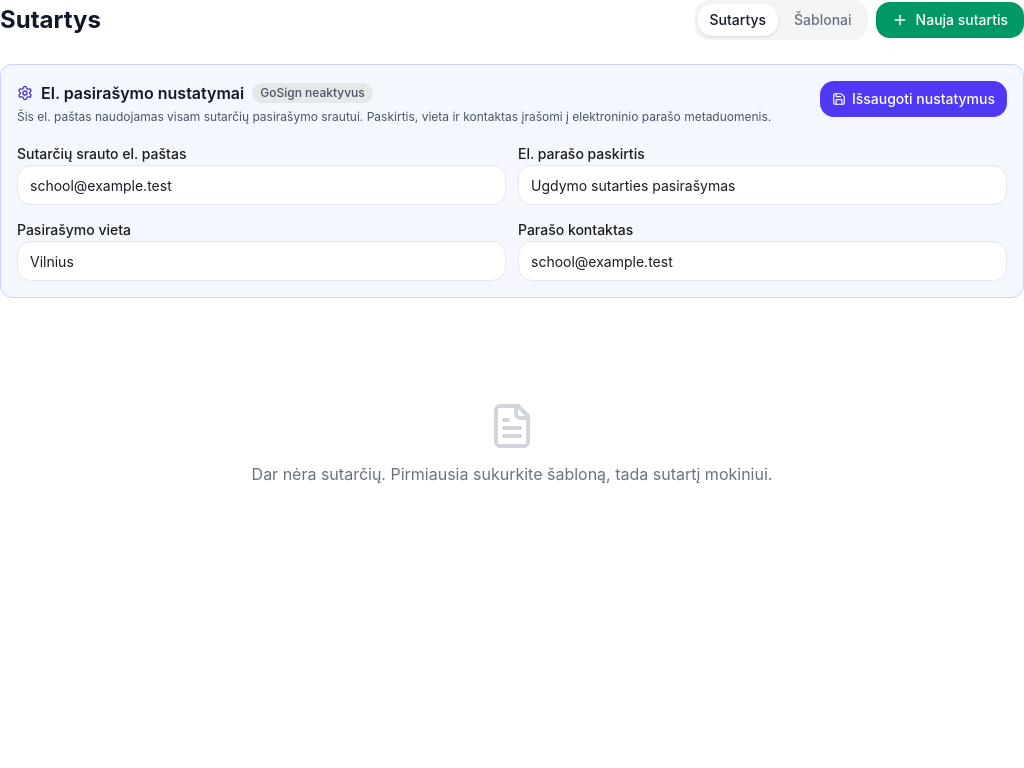
Test: CompanyContracts 20% discount checkbox › recomputes the discounted amount when the fee changes
Click the button "Nauja sutartis": point(950, 20) 876,2 -> 1023,38
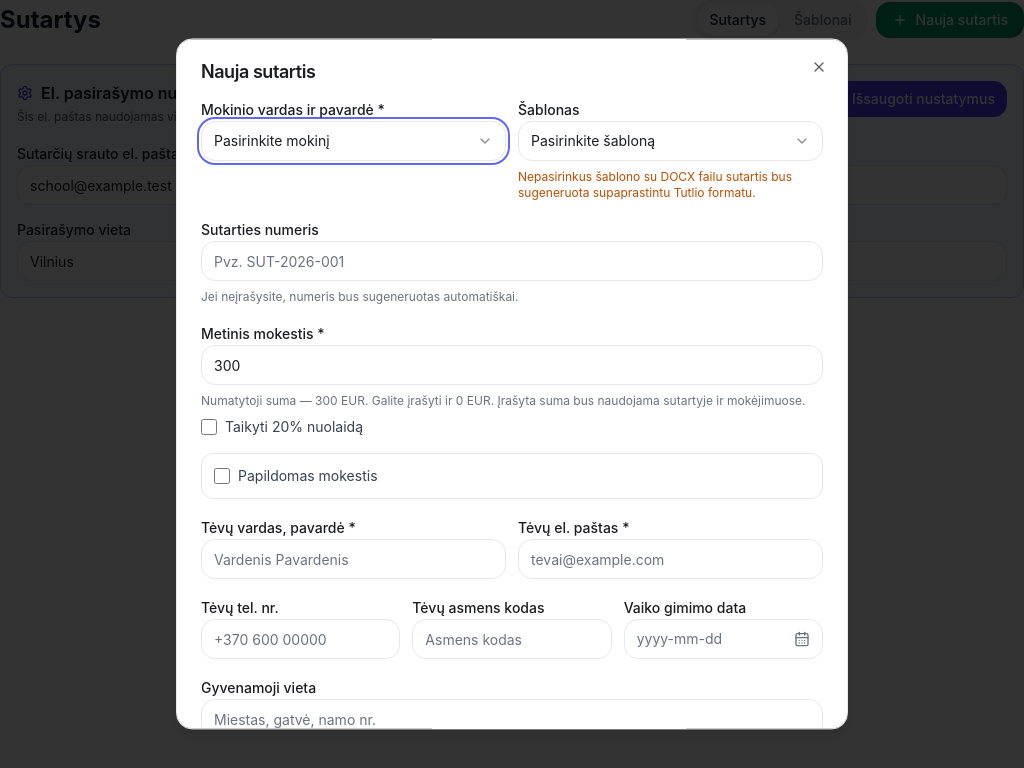
Click the checkbox labelled "Taikyti 20% nuolaidą": point(209, 427) 201,419 -> 217,435
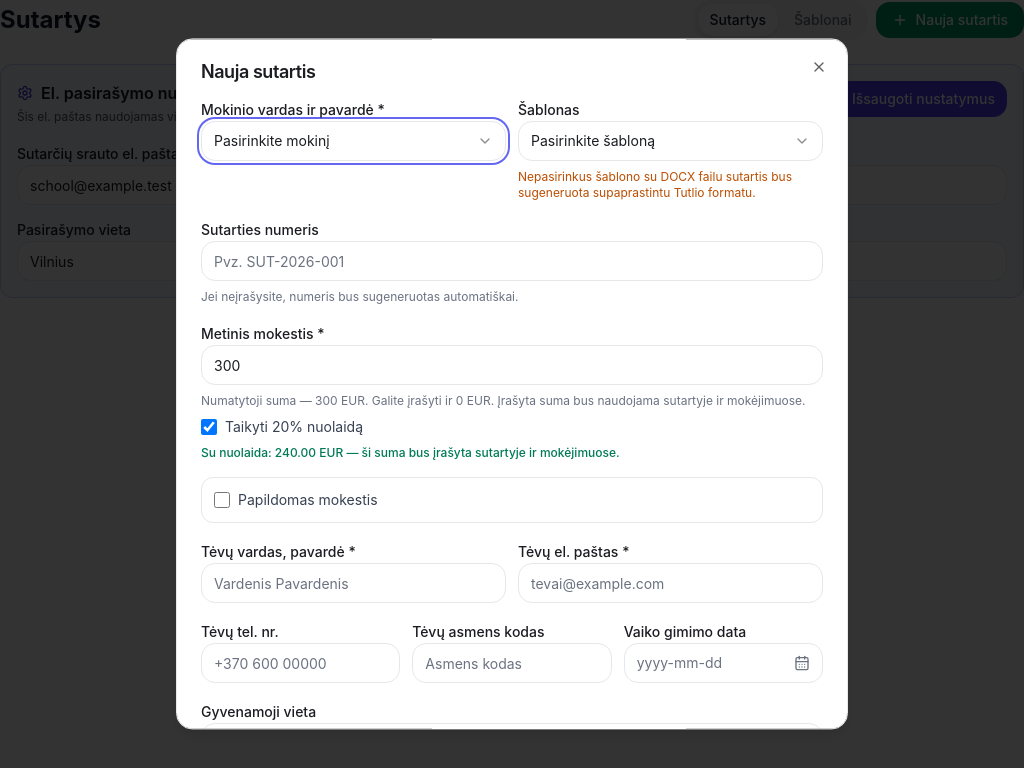
In the number field with placeholder "300": point(512, 365) 201,345 -> 823,385, type "333"
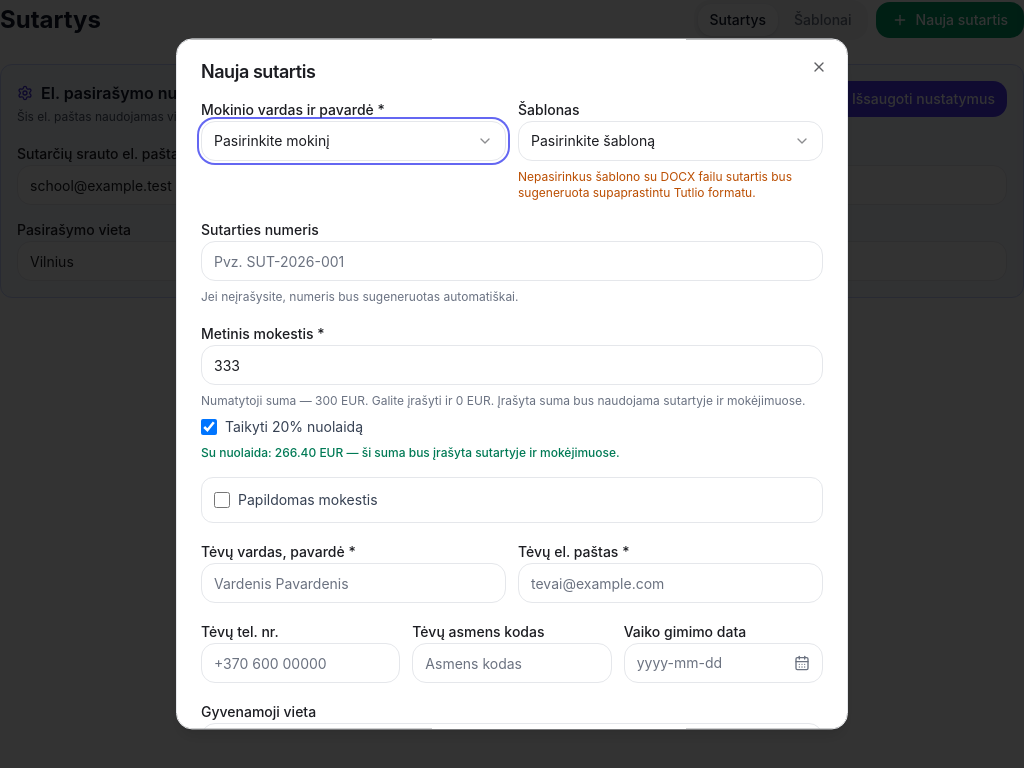
Now the text "Su nuolaida: 266.40 EUR — ši suma bus įrašyta sutartyje ir mokėjimuose." is shown, box 201,445 -> 620,460
